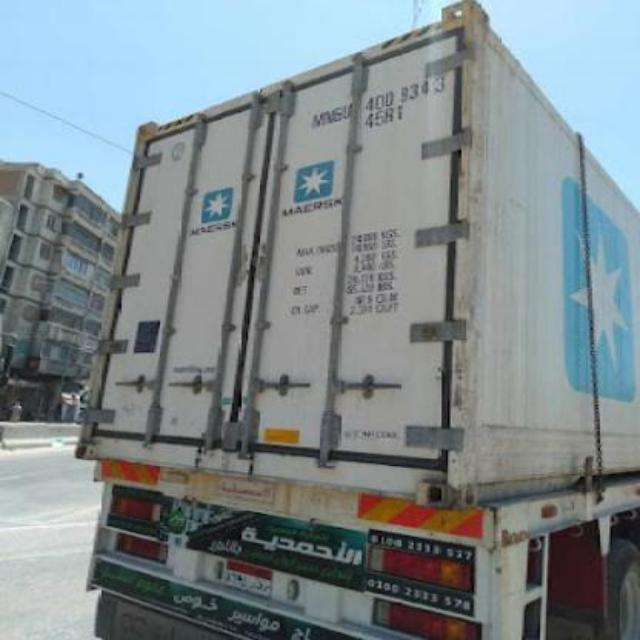0: (374, 82, 386, 110), (384, 77, 394, 106)
3: (432, 67, 450, 96), (408, 70, 420, 108)
4: (362, 83, 378, 115), (420, 68, 432, 102)
8: (394, 78, 410, 104)
B: (330, 93, 342, 123)
M: (304, 99, 322, 128)
N: (322, 94, 334, 128)
U: (342, 98, 352, 122)
